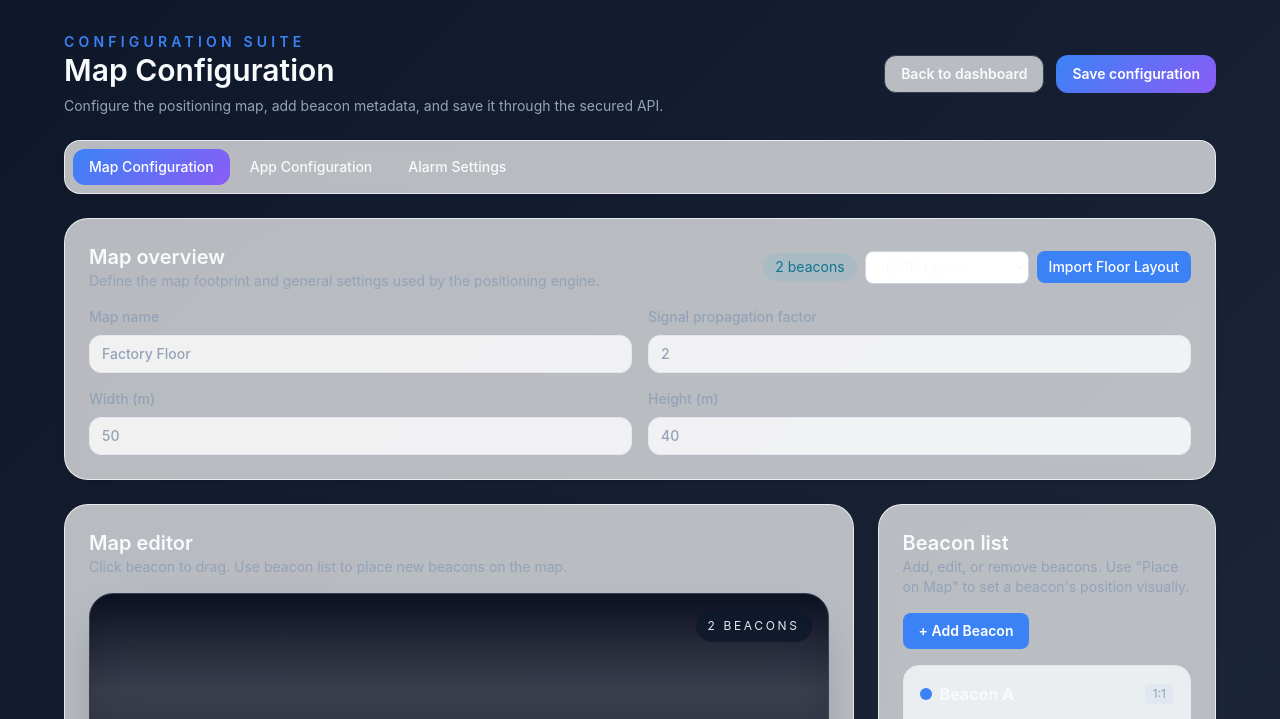
ConfigurationPage - Map Configuration Tab - Save and Reload › saves imported layout to server
Expected: the text "2 beacons" in the row of "Map overview" is shown, [763,253,857,281]
Click the button "Save configuration".
click(1136, 74)  # box [1056,55,1216,93]
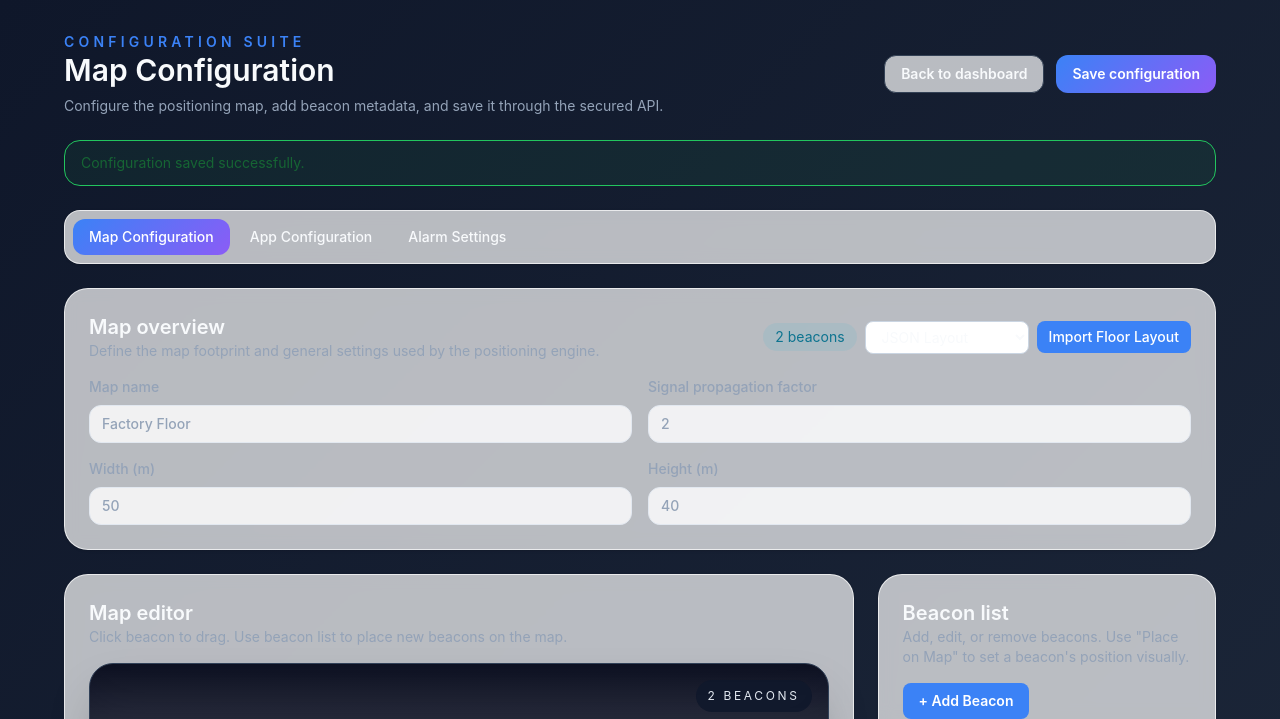
Expected: the text "Configuration saved successfully." is shown, [64,140,1216,186]
